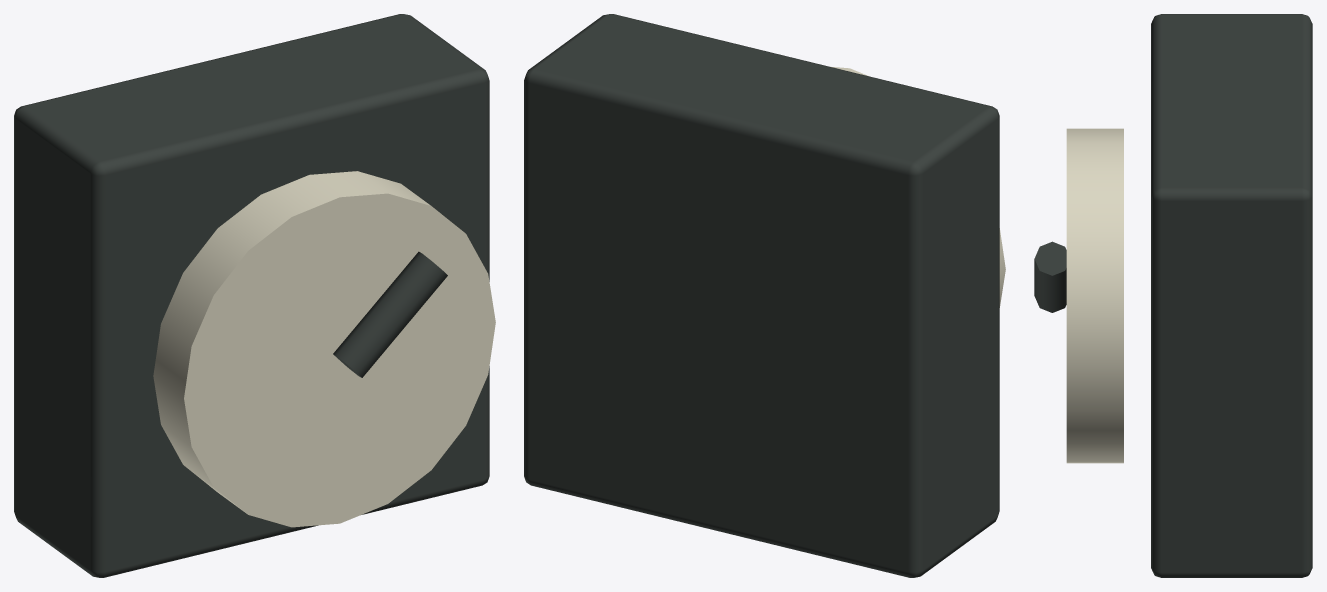
File: off-grid-power-and-controls-voltage-meter-cc6630fb__3013.glb
3 renders of one model, left to right at view 1: azimuth 30°, elevation 25°; view 2: azimuth 150°, elevation 25°; view 3: azimuth 270°, elevation 25°, orthographic. The views are drawn at different scales.
Parts seen in each view (by area): view 1: voltage-meter; view 2: voltage-meter; view 3: voltage-meter.
Boxes of the visible parts, x1,y1,x2,y2 form: voltage-meter: (14, 14, 495, 577); voltage-meter: (524, 14, 1005, 577); voltage-meter: (1034, 14, 1312, 577).
Bounding box in the file's own units: 0.12 × 0.12 × 0.0775.
